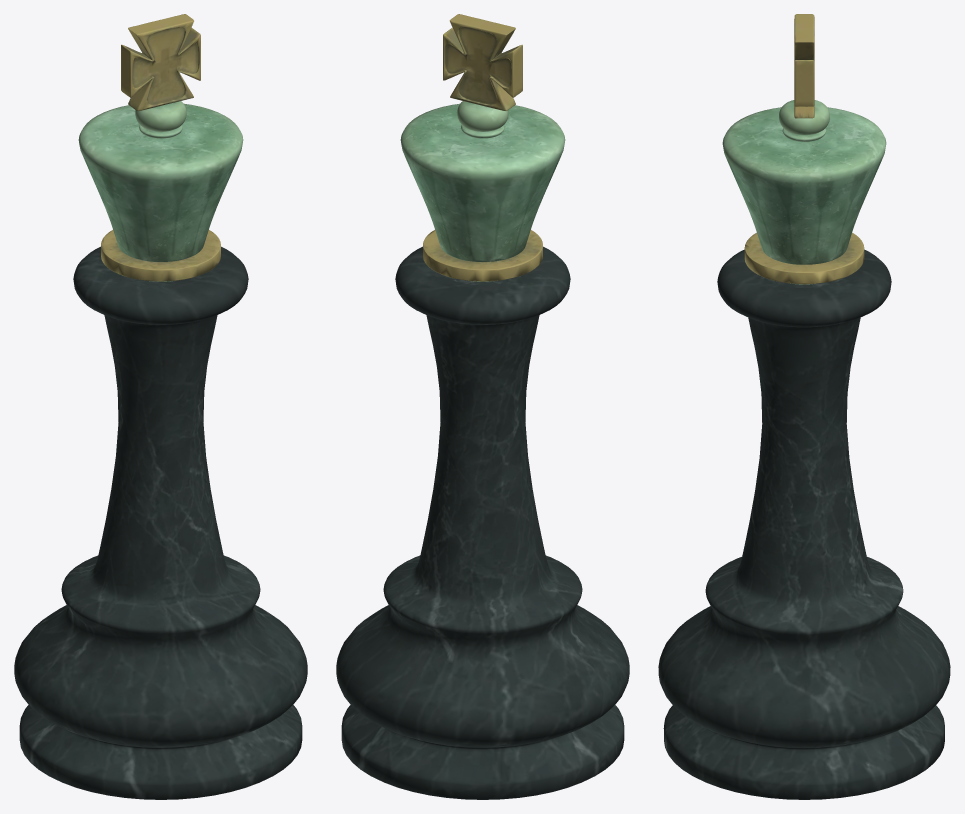
File: king.glb
3 views of the same model, side by side, from view 1: azimuth 30°, elevation 25°; view 2: azimuth 150°, elevation 25°; view 3: azimuth 270°, elevation 25° (orthographic).
Visible parts, largest first — view 1: King; view 2: King; view 3: King.
Part boxes in pixels (box(x1,y1,x2,y2)): King: box(14, 14, 307, 799); King: box(336, 14, 629, 799); King: box(658, 14, 950, 799).
Bounding box in the file's own units: 0.0561 × 0.1515 × 0.0561.
1 material, 1 textured.
